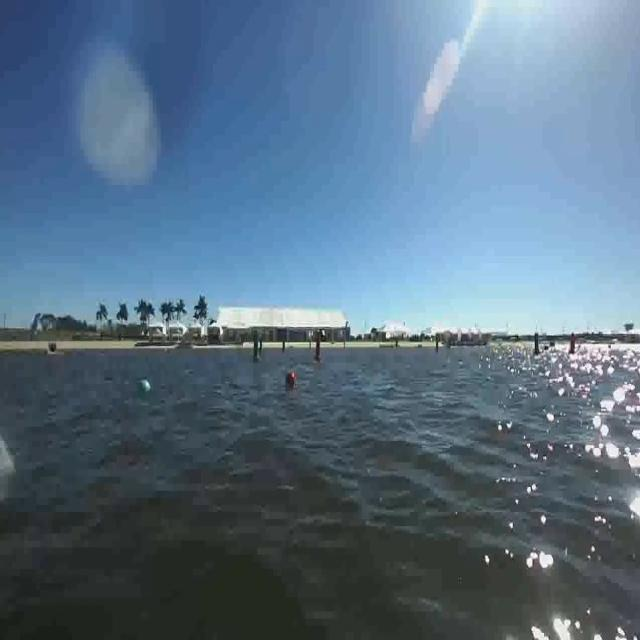green-buoy: (136, 379, 152, 397)
green-column-buoy: (254, 330, 259, 366)
red-buoy: (286, 374, 296, 385)
red-column-buoy: (314, 337, 323, 362)
